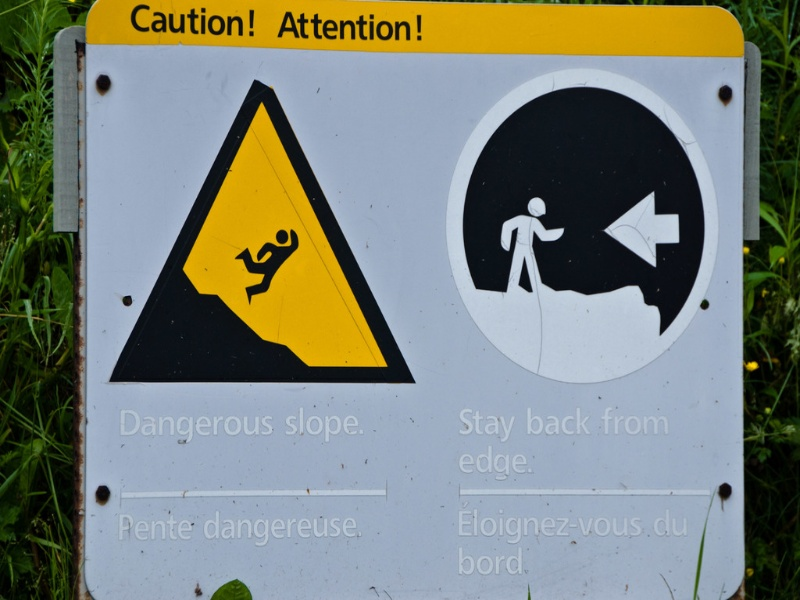cliff_edge: (459, 86, 712, 356)
warningous_slpoe: (108, 85, 417, 394)
